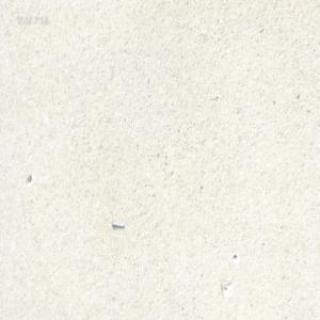Nailtrack_idkeyframe: (109, 219, 125, 229)
